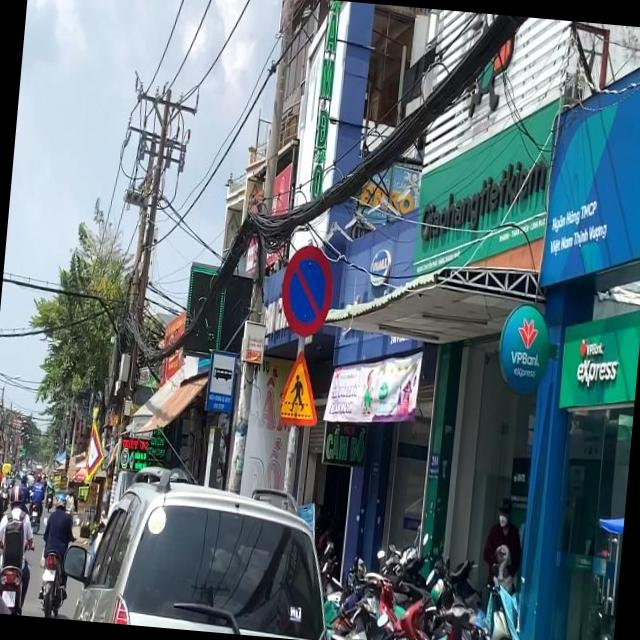P-131a: (278, 242, 334, 339)
W-224: (274, 348, 322, 428)
